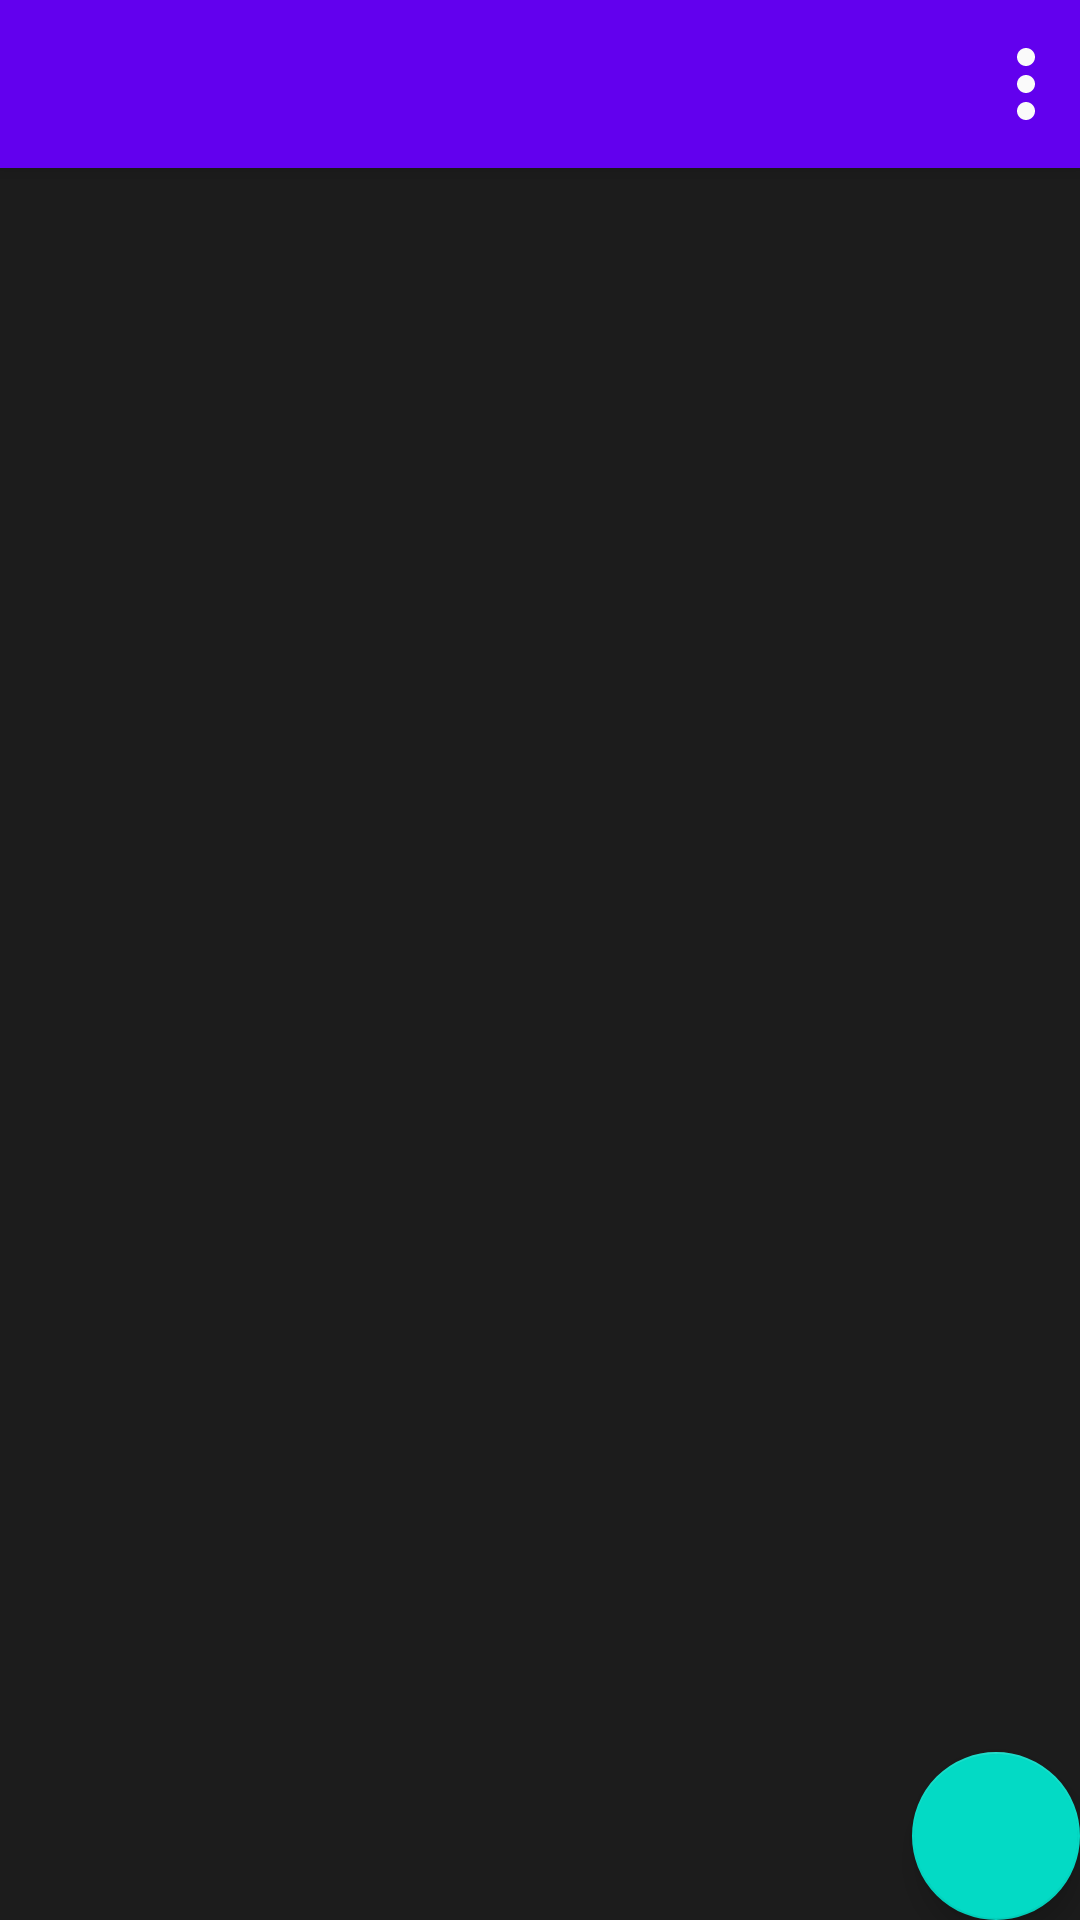

Named icons in this screenshot (1080×1920) and their centers, [x,y]:
more vert: [1026,84]
